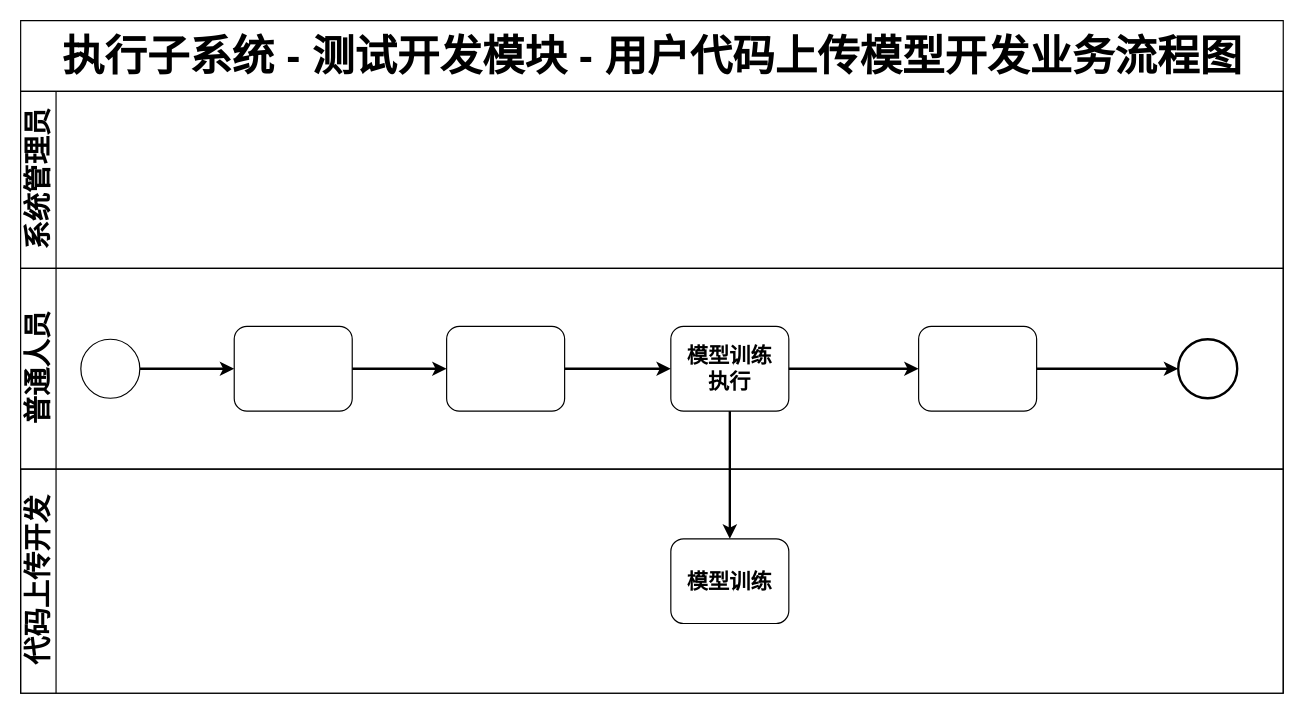
Some shapes in this 1304 by 714 pixel diagram are drawn without their labels. Here are the shapes that lost their labels. From the top down, the centre of each, then its label:
point 292,368: 用户登录
point 505,368: 模型代码 上传
point 977,368: 训练结果 查看
